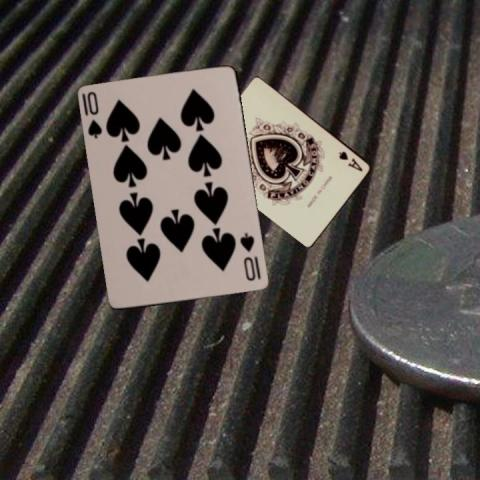10s: (238, 230, 258, 283), (84, 88, 104, 140)
As: (336, 148, 365, 173)
